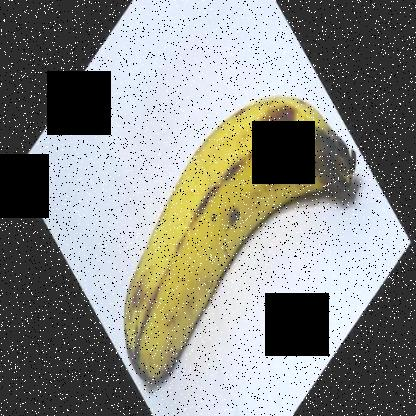ripe: (113, 88, 357, 400)
